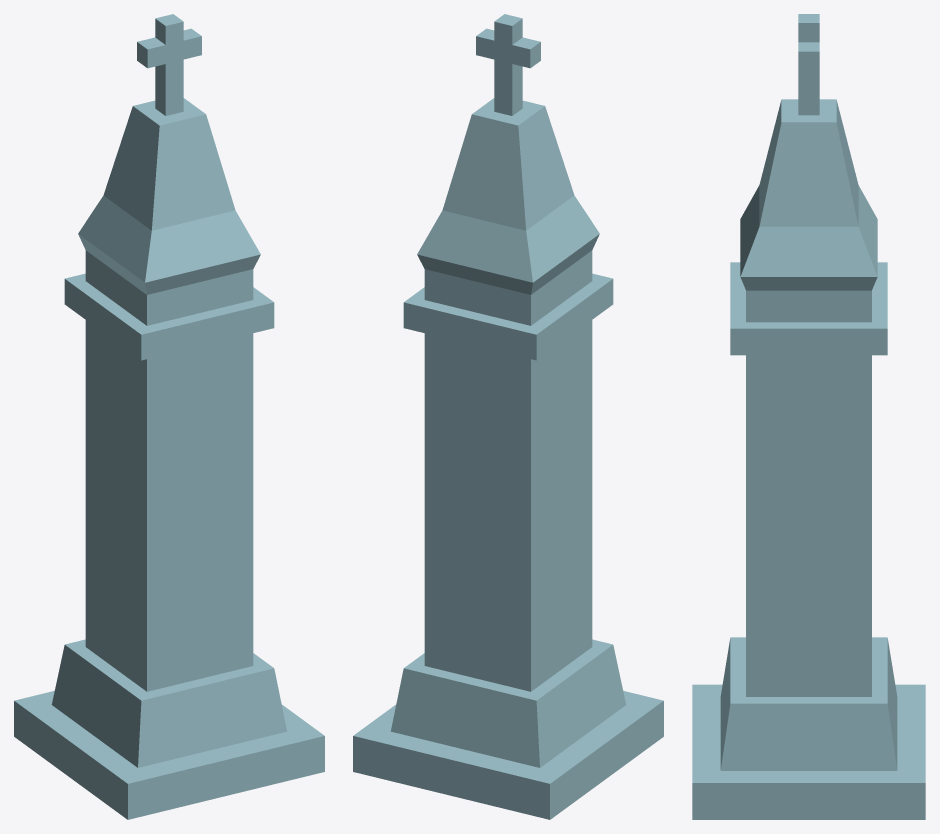
The model's file is crossColumn.dae.
The picture shows the model from 3 angles, left to right: view 1: azimuth 30°, elevation 25°; view 2: azimuth 150°, elevation 25°; view 3: azimuth 270°, elevation 25°; orthographic projection. The views are drawn at different scales.
Visible parts, largest first — view 1: crossColumn; view 2: crossColumn; view 3: crossColumn.
Part boxes in pixels (left/top/right/bottom): crossColumn: left=14, top=14, right=324, bottom=819; crossColumn: left=353, top=14, right=663, bottom=819; crossColumn: left=692, top=14, right=925, bottom=819.
Size of the model in its own units: 0.4 by 1.42 by 0.4.
